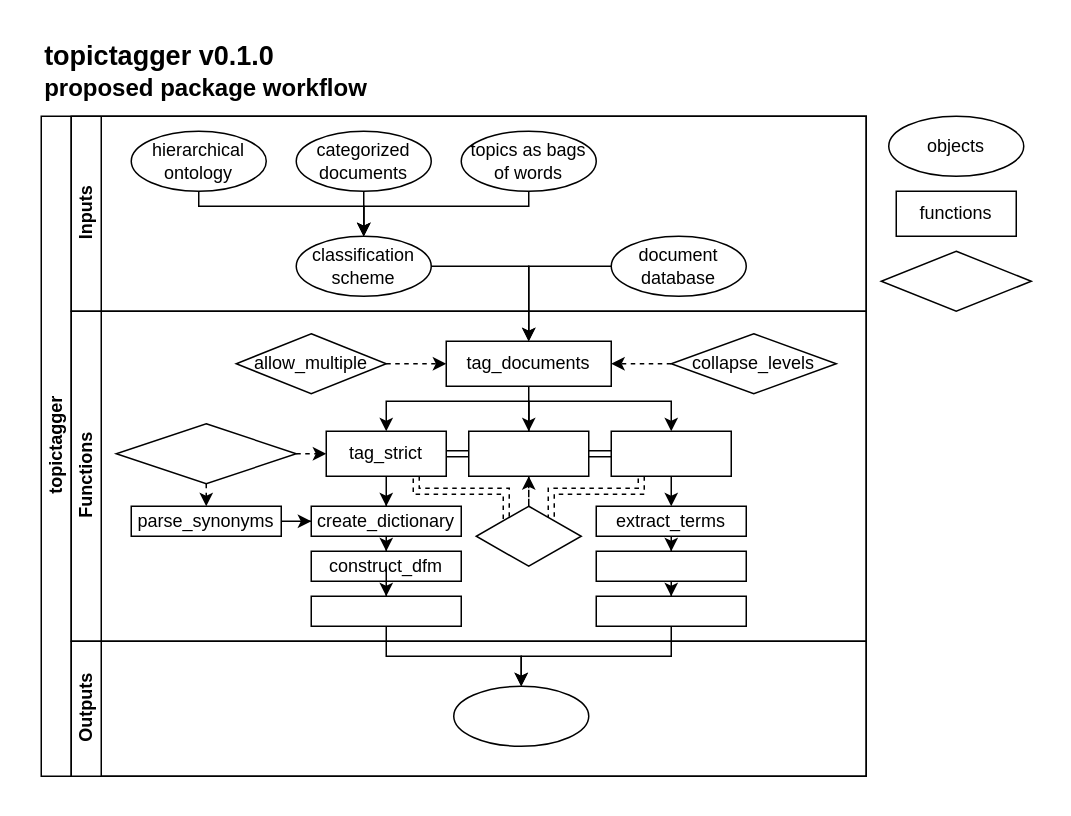
The diagram is 1071 pixels wide and 816 high, and some of its shapes have lost their labels. Here are the shapes that lost their labels. From the top down, the centre of each, then its label:
At (x=955, y=280): "options".
At (x=205, y=453): "enable_stemming".
At (x=528, y=453): "tag_smart".
At (x=670, y=453): "tag_learn".
At (x=528, y=535): "n_iter".
At (x=670, y=565): "seed_tm".
At (x=385, y=610): "assign_tags".
At (x=670, y=610): "classify_docs".
At (x=520, y=715): "tagged documents".
